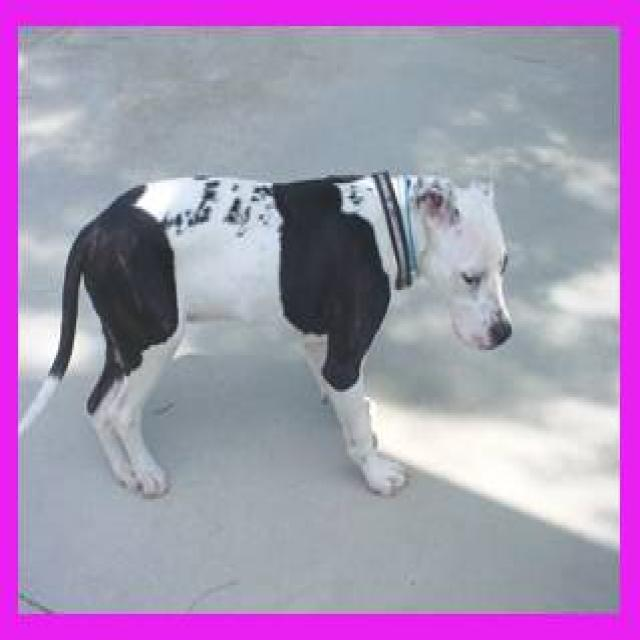dogs: (23, 152, 528, 552)
